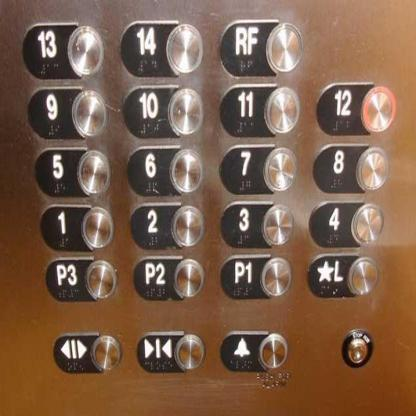1: (38, 200, 115, 251)
10: (122, 80, 205, 138)
11: (219, 80, 302, 138)
12: (315, 81, 398, 137)
13: (22, 19, 104, 78)
14: (120, 16, 204, 79)
2: (130, 201, 206, 249)
3: (220, 198, 295, 249)
4: (308, 198, 384, 250)
5: (33, 143, 113, 198)
6: (125, 138, 205, 198)
7: (218, 141, 298, 196)
8: (313, 142, 390, 195)
9: (25, 86, 110, 140)
P1: (220, 250, 292, 300)
P2: (133, 252, 204, 303)
P3: (45, 254, 119, 303)
RF: (219, 17, 305, 77)
alarm: (220, 327, 287, 372)
close: (135, 327, 206, 374)
keyhole: (338, 325, 375, 368)
open: (52, 328, 124, 374)
sL: (306, 251, 381, 299)
